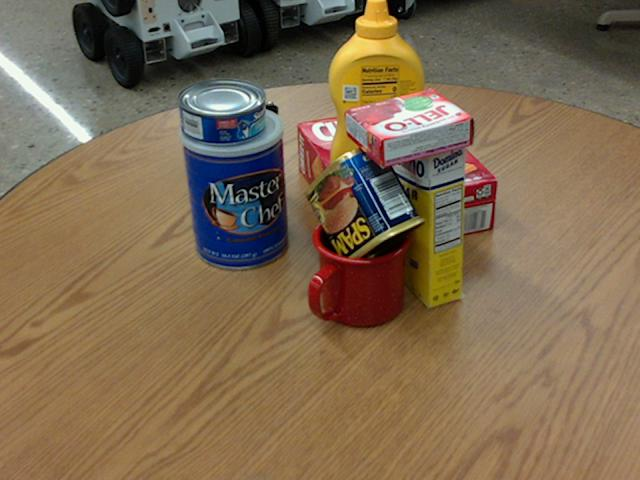cracker_box: (296, 102, 495, 255)
gelatin_box: (345, 88, 473, 166)
large_marker: (261, 104, 282, 204)
master_chef_can: (179, 103, 290, 268)
mug: (305, 211, 410, 328)
mustard_bottle: (328, 0, 424, 188)
potted_meat_can: (304, 143, 425, 270)
sugar_box: (381, 102, 464, 309)
tomato_soup_can: (341, 38, 401, 144)
tuna_fish_can: (176, 78, 265, 144)
